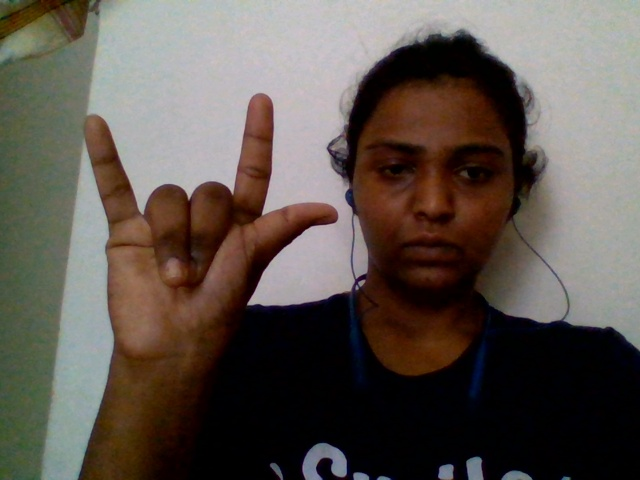IloveYou: (56, 78, 348, 405)
